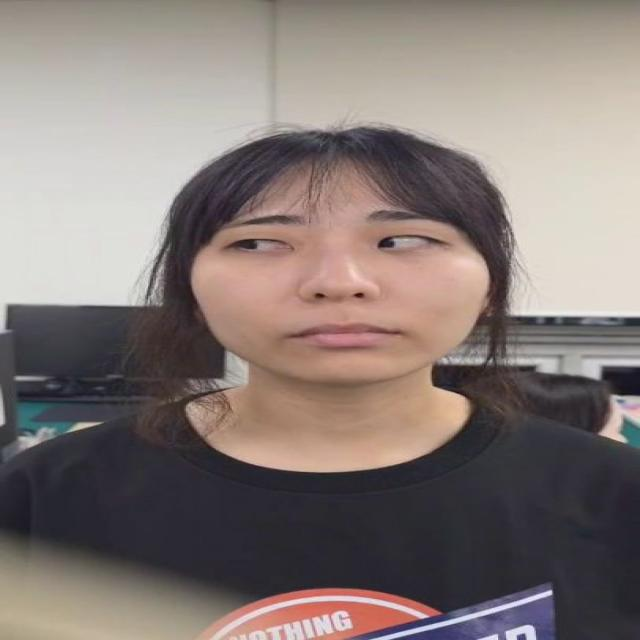eyes: (214, 227, 456, 260)
face: (189, 130, 494, 386)
iris_right: (227, 235, 268, 261), (364, 232, 407, 255)
